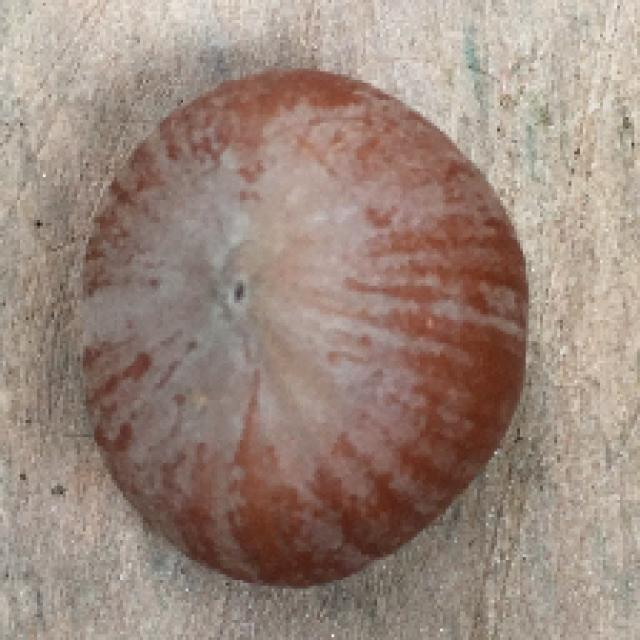qualityHazelnut: (66, 68, 533, 590)
